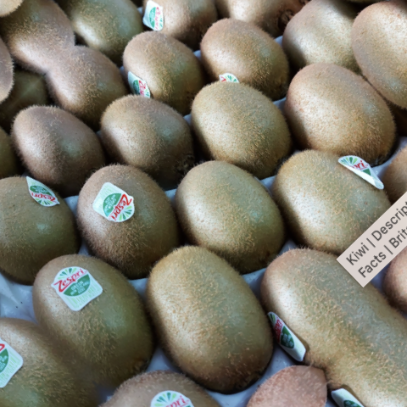kiwi: (96, 208, 310, 407), (7, 221, 182, 397), (219, 214, 391, 387), (241, 110, 407, 287), (255, 36, 407, 209), (162, 49, 317, 205), (56, 144, 201, 289), (0, 75, 131, 224), (176, 0, 309, 130), (100, 7, 227, 135), (81, 64, 205, 189)
